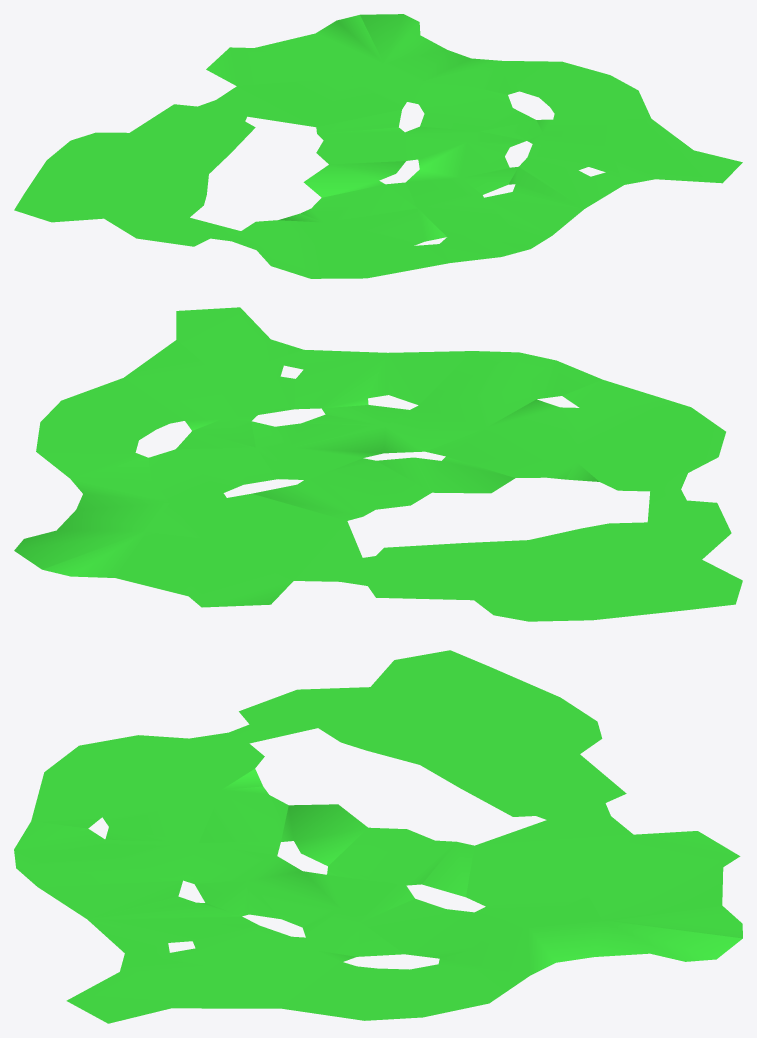
File: coli_slsd.FBX
The picture shows the model from 3 angles, top to bottom: view 1: azimuth 30°, elevation 25°; view 2: azimuth 150°, elevation 25°; view 3: azimuth 270°, elevation 25°; orthographic projection. The views are drawn at different scales.
Visible parts, largest first — view 1: coli_slsd; view 2: coli_slsd; view 3: coli_slsd.
Part boxes in pixels (x1,y1,x2,y2): coli_slsd: (14,14,742,278); coli_slsd: (14,307,742,621); coli_slsd: (14,650,742,1023).
Size of the model in its own units: 10430 by 44.24 by 8600.
